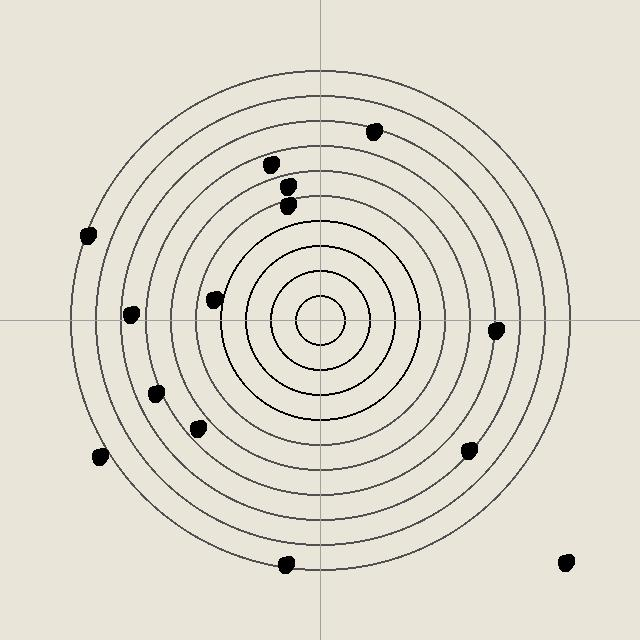random_scatter: (458, 440, 478, 460), (555, 552, 575, 572), (203, 289, 223, 309), (275, 554, 295, 574), (187, 418, 207, 438), (120, 304, 140, 324), (260, 154, 280, 174), (363, 121, 383, 141), (277, 176, 297, 196), (77, 225, 97, 245), (277, 195, 297, 215), (89, 446, 109, 466), (485, 320, 505, 340), (145, 383, 165, 403)
